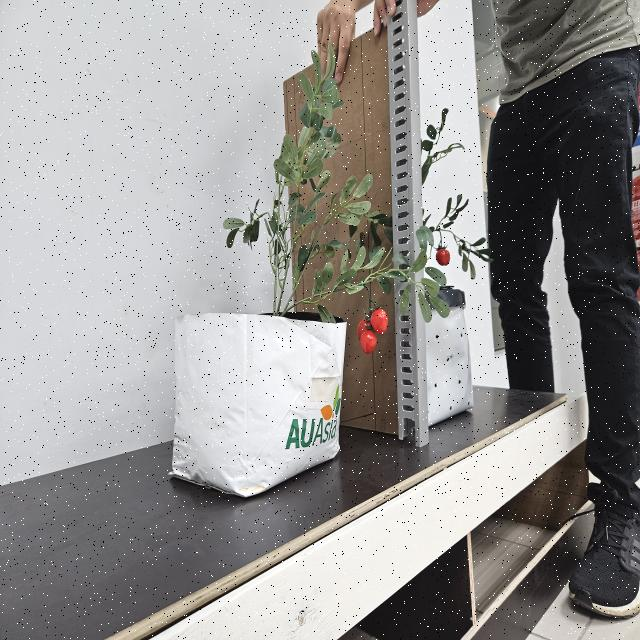Soilbag: (169, 314, 348, 500)
Tomato: (358, 309, 388, 355)
plant: (223, 43, 393, 355)
